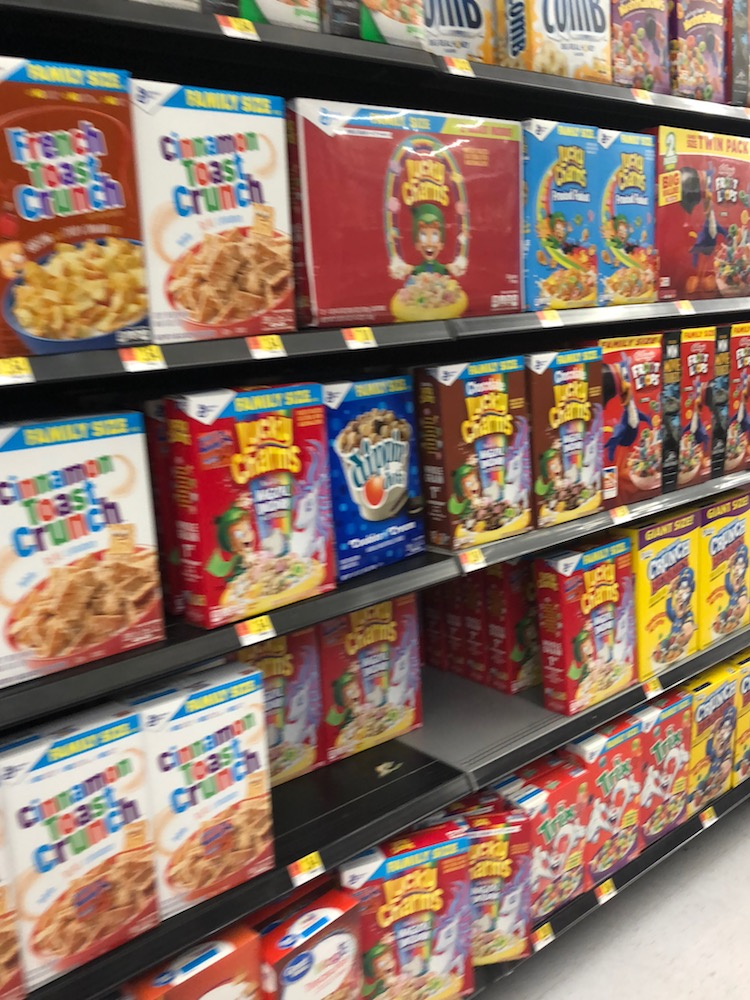Dippin Dots Cookies & Cream -568929378: (324, 383, 434, 570)
